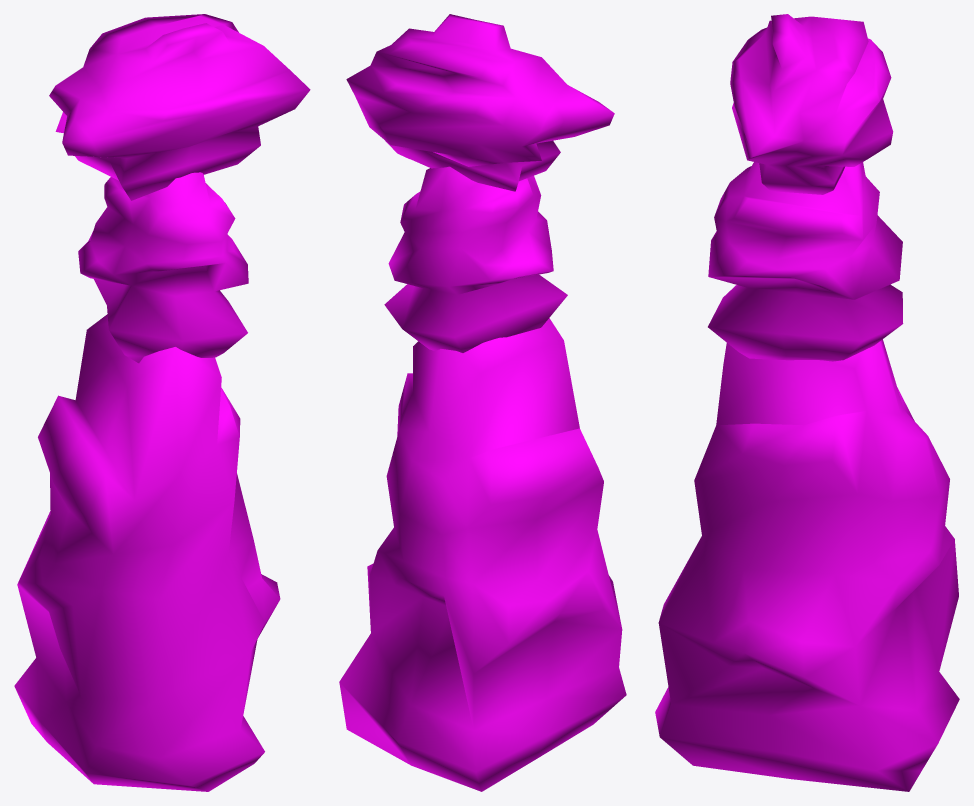
File: rock-set-desert-04.glb
3 views of the same model, side by side, from view 1: azimuth 30°, elevation 25°; view 2: azimuth 150°, elevation 25°; view 3: azimuth 270°, elevation 25° (orthographic). The views are drawn at different scales.
Parts seen in each view (by area): view 1: Cube_017-mesh; view 2: Cube_017-mesh; view 3: Cube_017-mesh.
Boxes of the visible parts, x1=… form: Cube_017-mesh: x1=14, y1=14, x2=310, y2=791; Cube_017-mesh: x1=339, y1=14, x2=626, y2=791; Cube_017-mesh: x1=655, y1=14, x2=959, y2=791.
Bounding box in the file's own units: 0.7274 × 2.07 × 0.7604.
